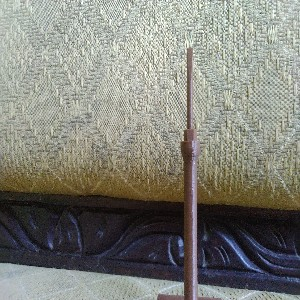obeng: (180, 47, 201, 300)
